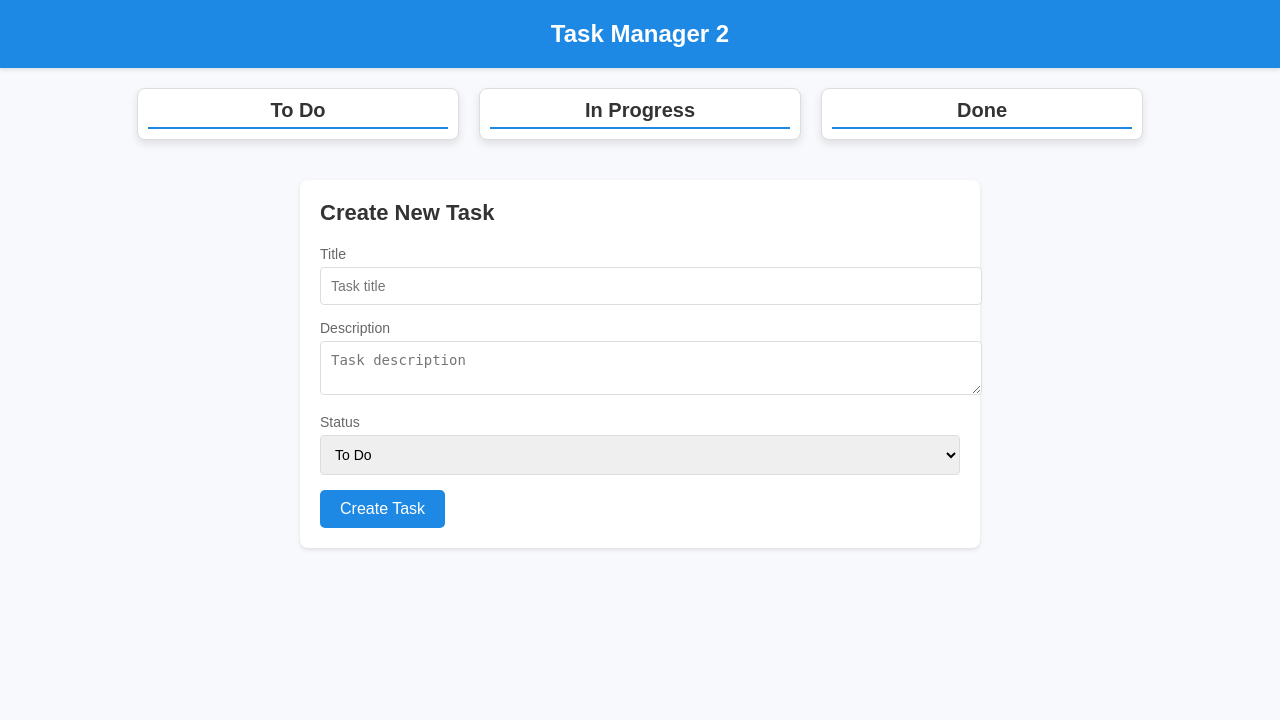
Test: creates a new task via the form
This screenshot has width=1280, height=720.
# Remplir le formulaire
Type "New Task" into the field with placeholder "Task title". click: (651, 286)
box: x1=320 y1=267 x2=982 y2=305
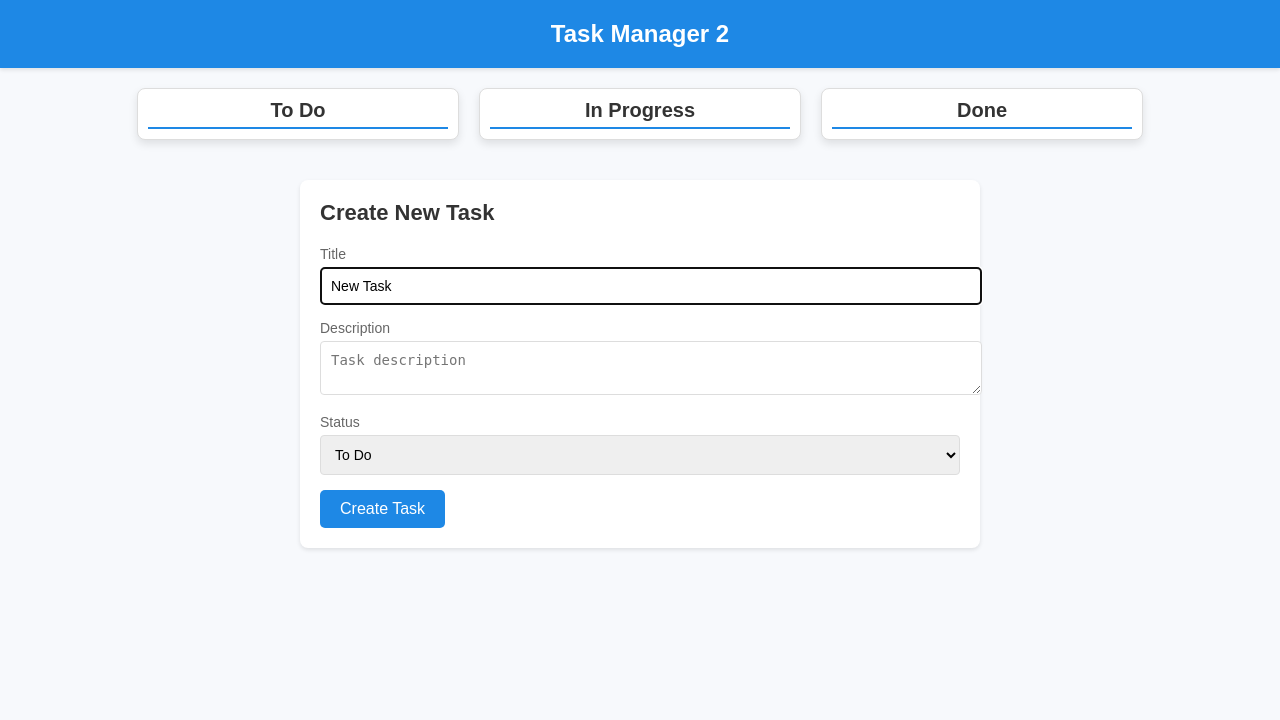
Type "New Description" into the text box with placeholder "Task description". click: (651, 368)
box: x1=320 y1=341 x2=982 y2=395
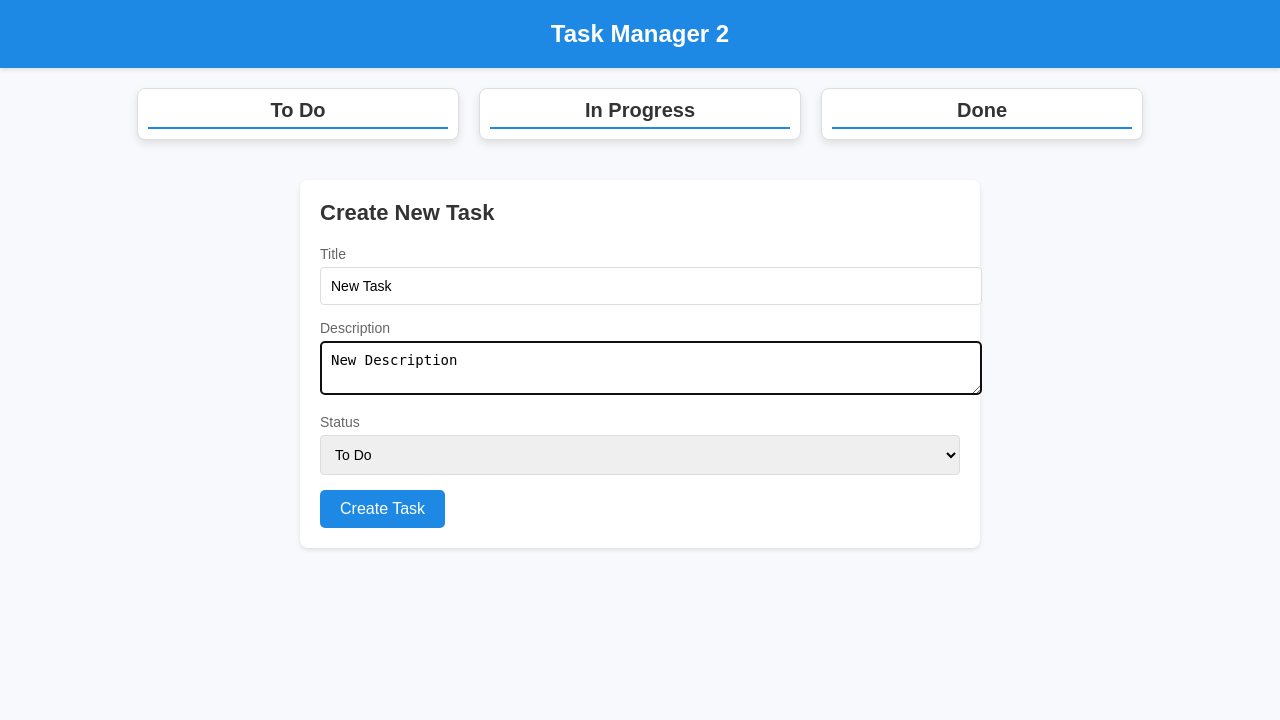
Submit the form from the button "Create Task", box x1=320 y1=490 x2=445 y2=528
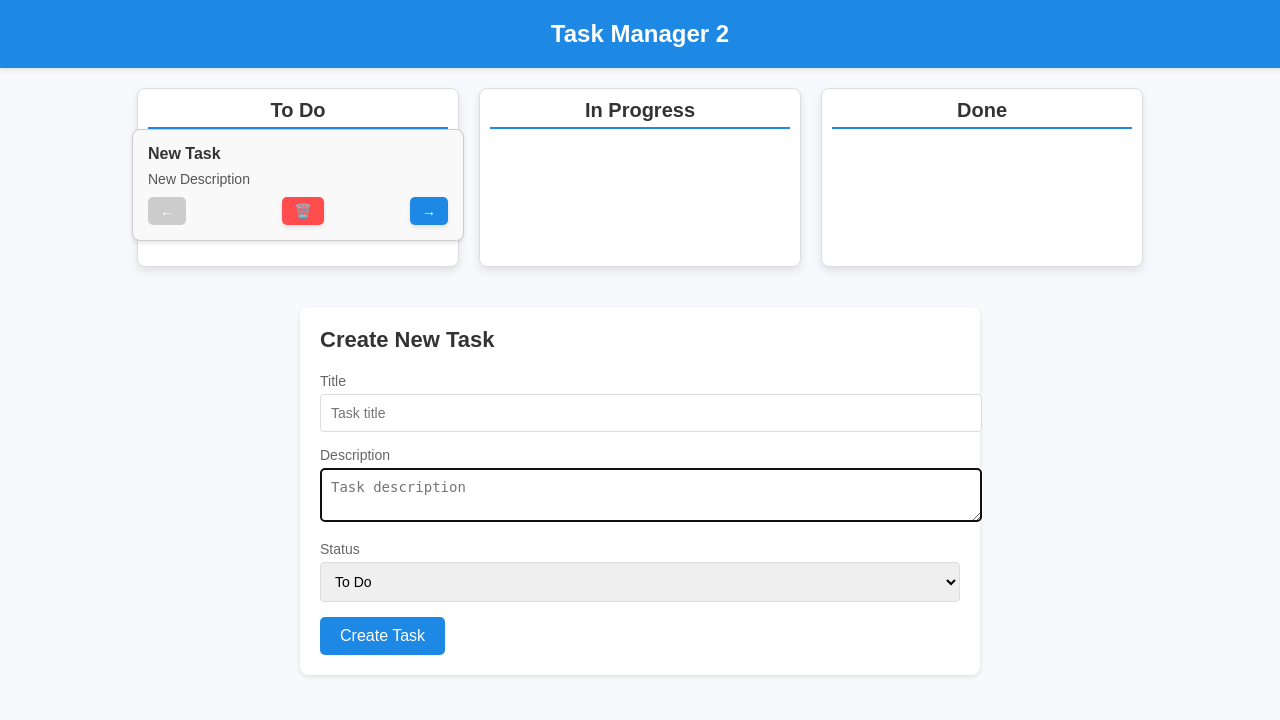
Check: the heading "New Task" is shown, box x1=148 y1=145 x2=221 y2=162
